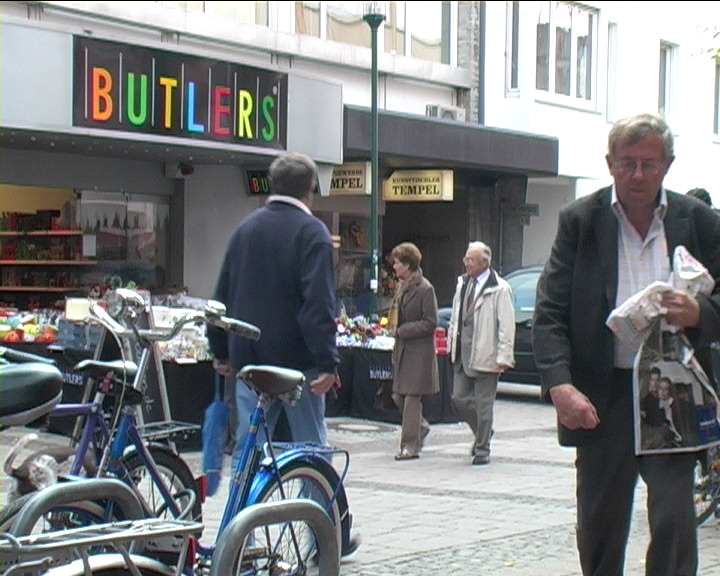undeflect: (567, 117, 702, 252)
